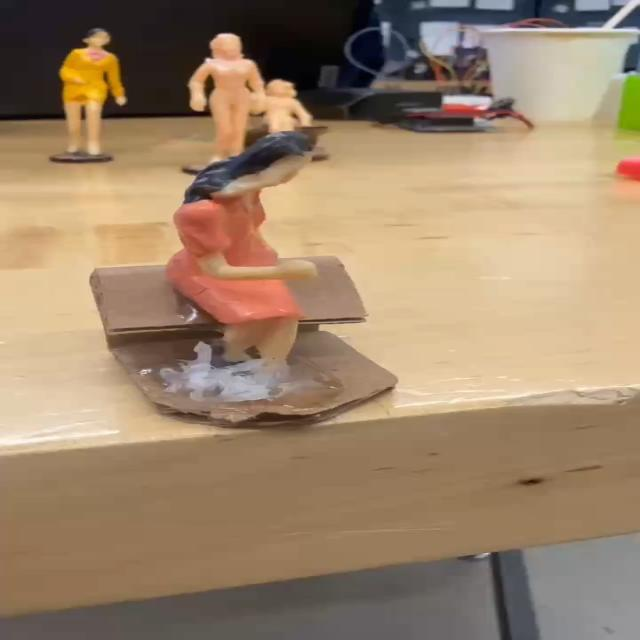Authorized: (169, 132, 325, 393)
